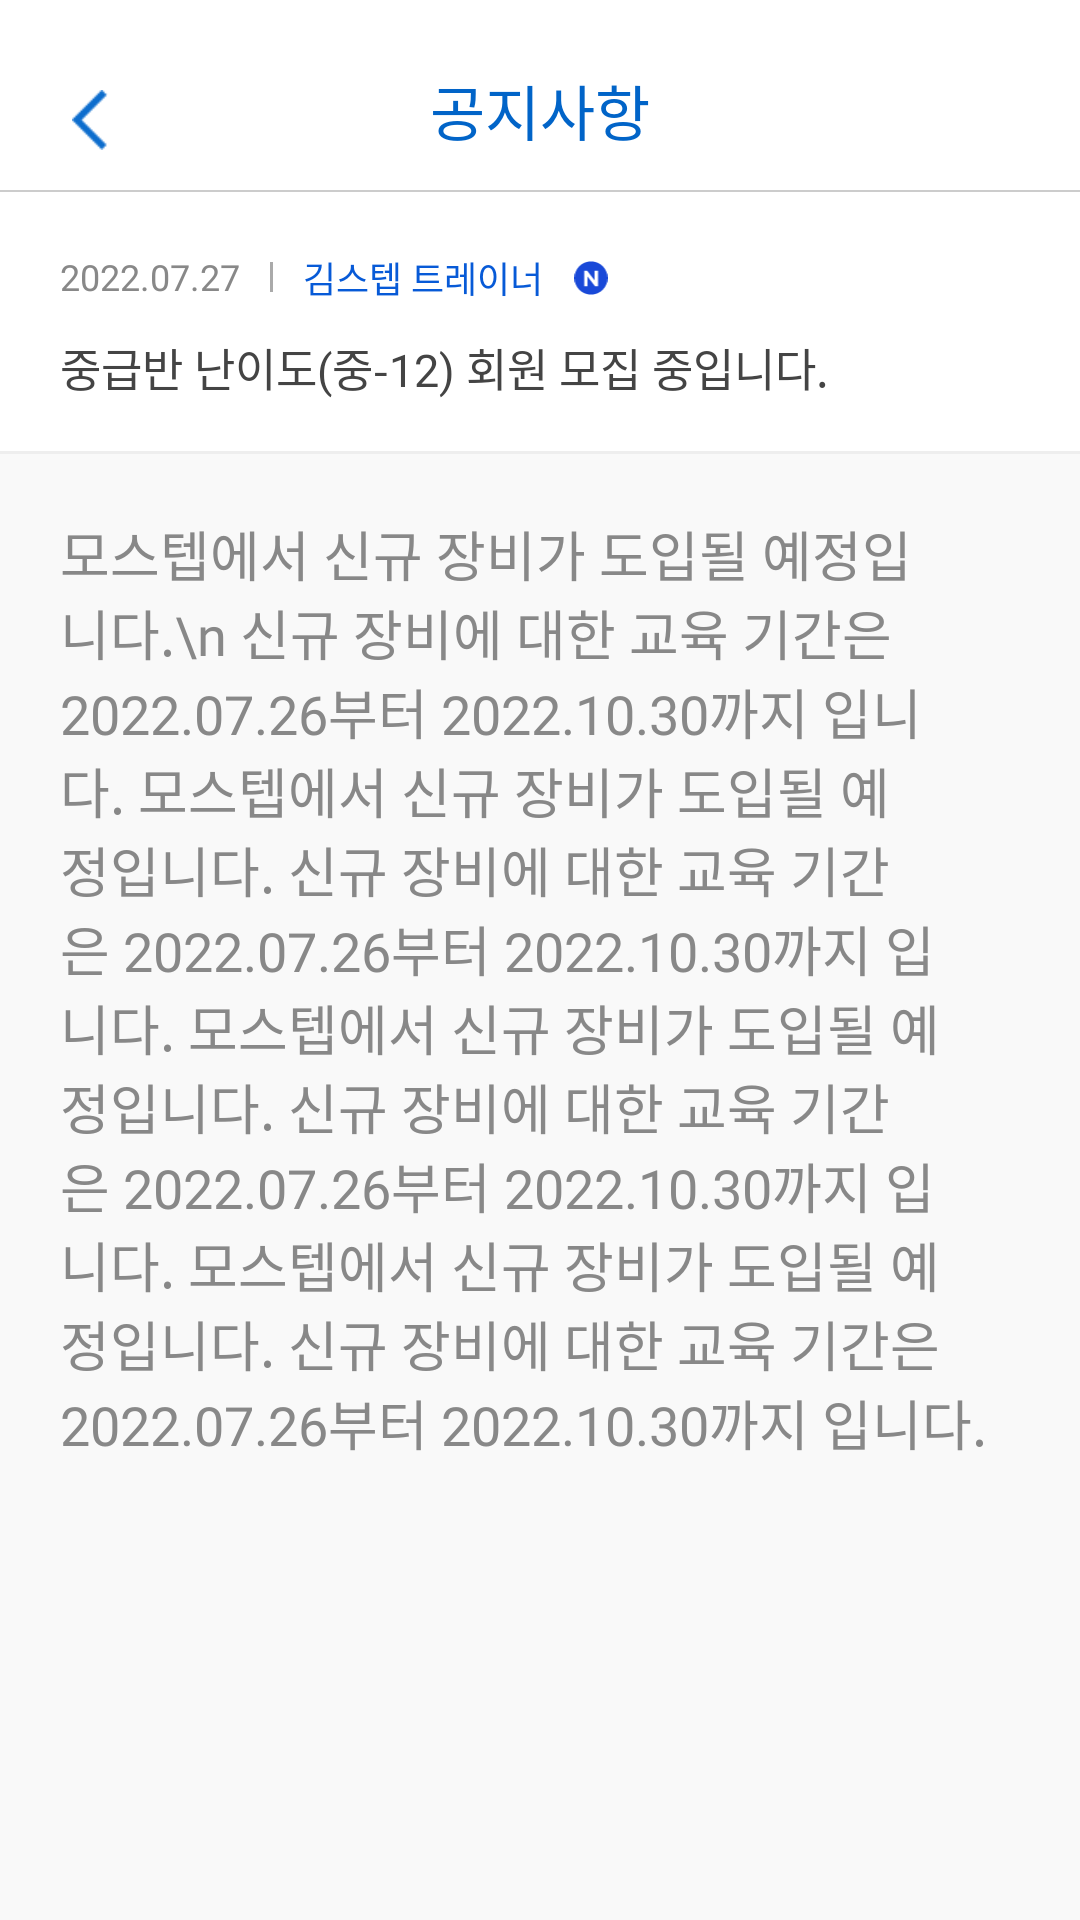

Icon bounding boxes for this 1080 × 1920 phone screenshot, format (x1, y1, x2, y2):
register left: (72, 90, 107, 150)
